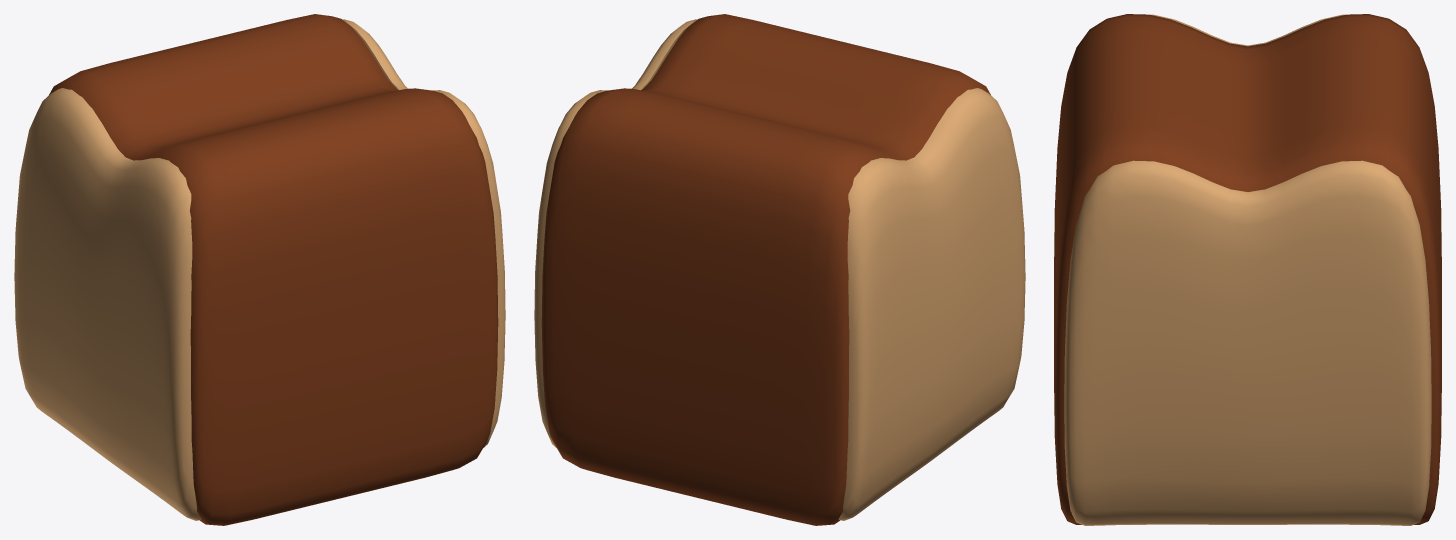
File: BreadHat.fbx
The picture shows the model from 3 angles, left to right: view 1: azimuth 30°, elevation 25°; view 2: azimuth 150°, elevation 25°; view 3: azimuth 270°, elevation 25°; orthographic projection. The views are drawn at different scales.
Visible parts, largest first — view 1: Cube, Cube.001; view 2: Cube, Cube.001; view 3: Cube.001, Cube.
Part boxes in pixels (bbox=[...]): Cube: bbox=[49, 14, 498, 525]; Cube.001: bbox=[14, 19, 505, 520]; Cube: bbox=[541, 14, 990, 525]; Cube.001: bbox=[534, 19, 1025, 520]; Cube.001: bbox=[1064, 14, 1431, 525]; Cube: bbox=[1054, 14, 1441, 524].
Bounding box in the file's own units: 213 × 219 × 199.
